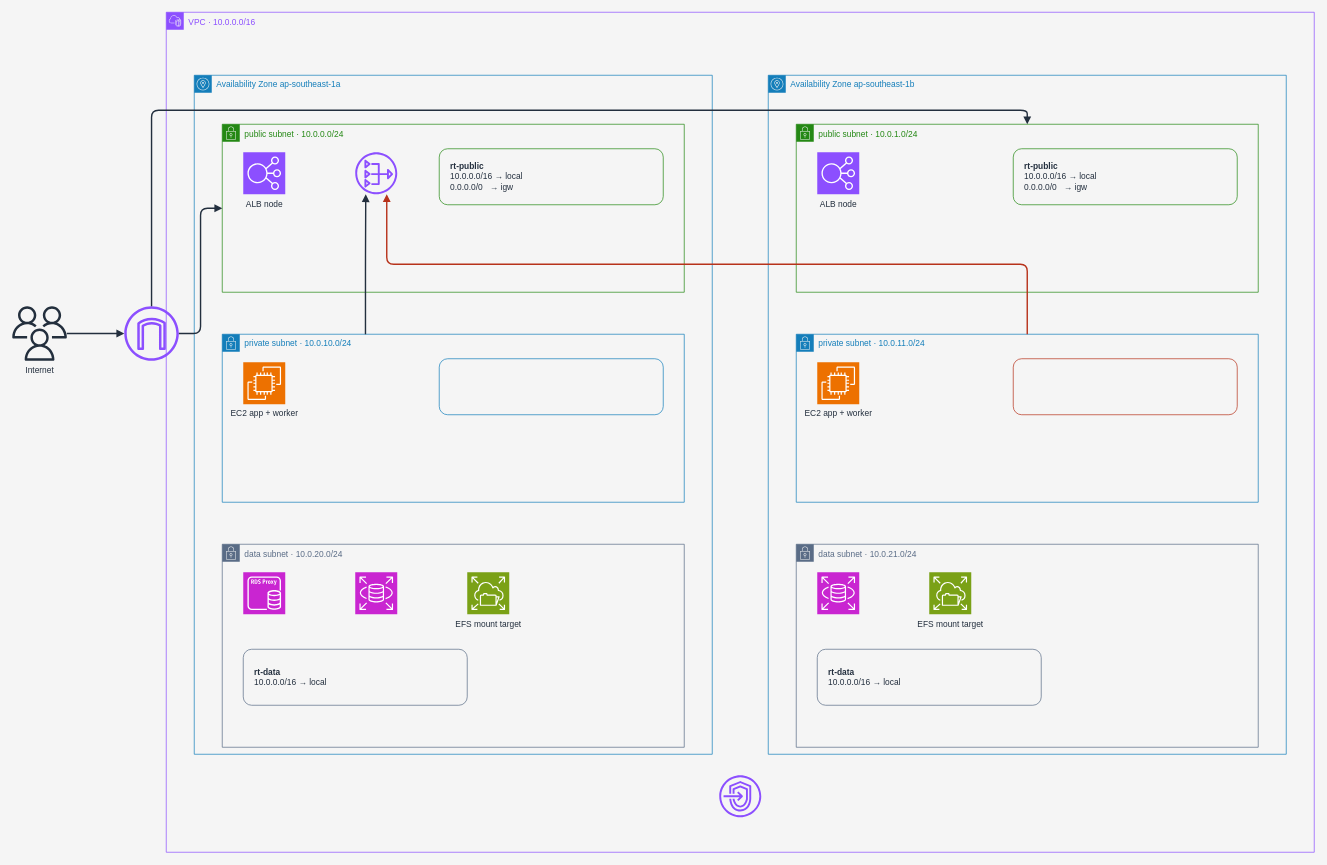
The diagram is 1327 pixels wide and 865 high, and some of its shapes have lost their labels. The centre of each missing label's shape, as x and y in pixels:
Internet Gateway: [151,333]
NAT Gateway + Elastic IP: [376,173]
RDS primary: [376,593]
RDS Proxy: [264,593]
RDS standby: [838,593]
rt-private-1a 10.0.0.0/16 → local 0.0.0.0/0 → nat (AZ 1a): [551,386]
rt-private-1b 10.0.0.0/16 → local 0.0.0.0/0 → nat (AZ 1a): [1125,386]
VPC Gateway Endpoint · S3: [740,796]
